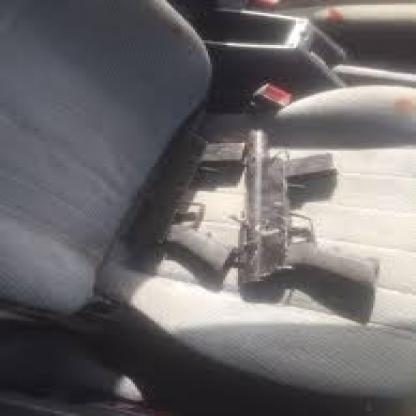Gun: (112, 104, 288, 272), (240, 124, 375, 294)
